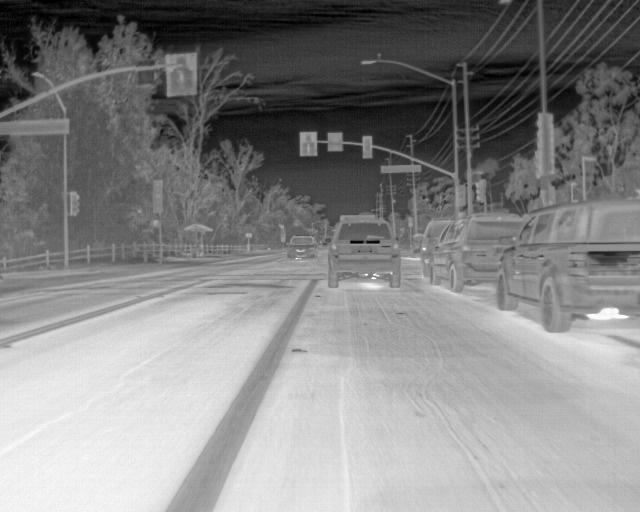car: (496, 196, 639, 333), (326, 213, 402, 290), (429, 213, 497, 293), (421, 219, 448, 278), (285, 234, 316, 262)
